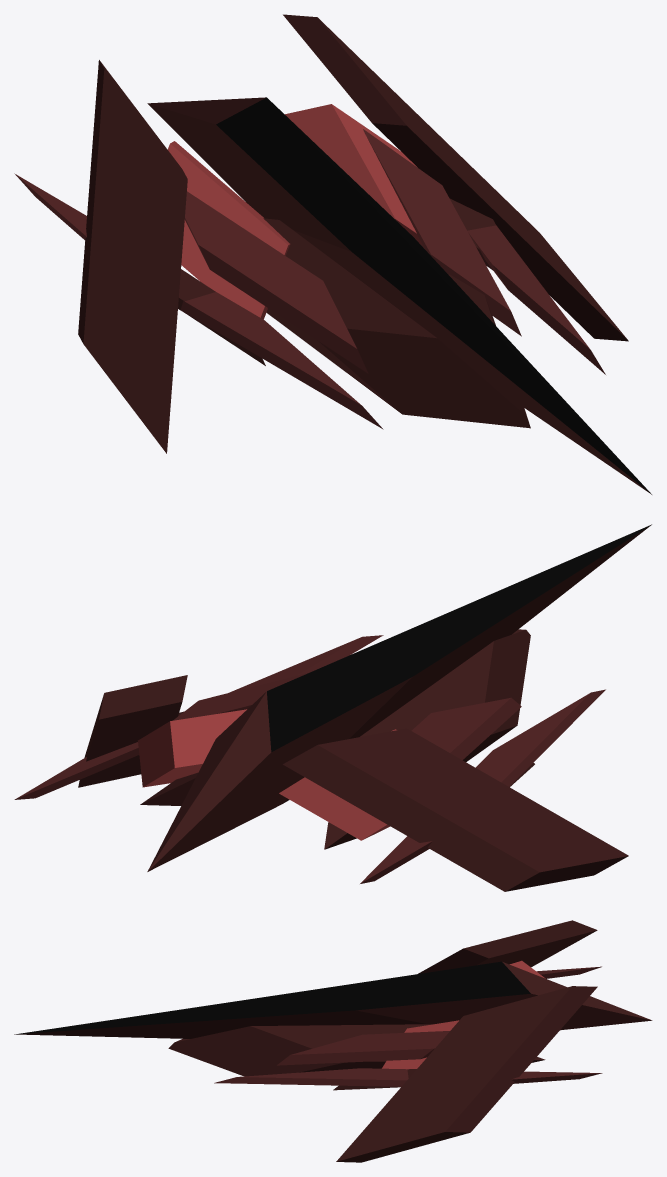
3 renders of one model, top to bottom at view 1: azimuth 30°, elevation 25°; view 2: azimuth 150°, elevation 25°; view 3: azimuth 270°, elevation 25°, orthographic. The views are drawn at different scales.
Parts seen in each view (by area): view 1: LowPolySpaceship02; view 2: LowPolySpaceship02; view 3: LowPolySpaceship02.
Boxes of the visible parts, x1,y1,x2,y2 form: LowPolySpaceship02: (14, 14, 651, 494); LowPolySpaceship02: (14, 524, 651, 891); LowPolySpaceship02: (14, 920, 652, 1162).
Size of the model in its own units: 3.1 by 1.45 by 5.87.
